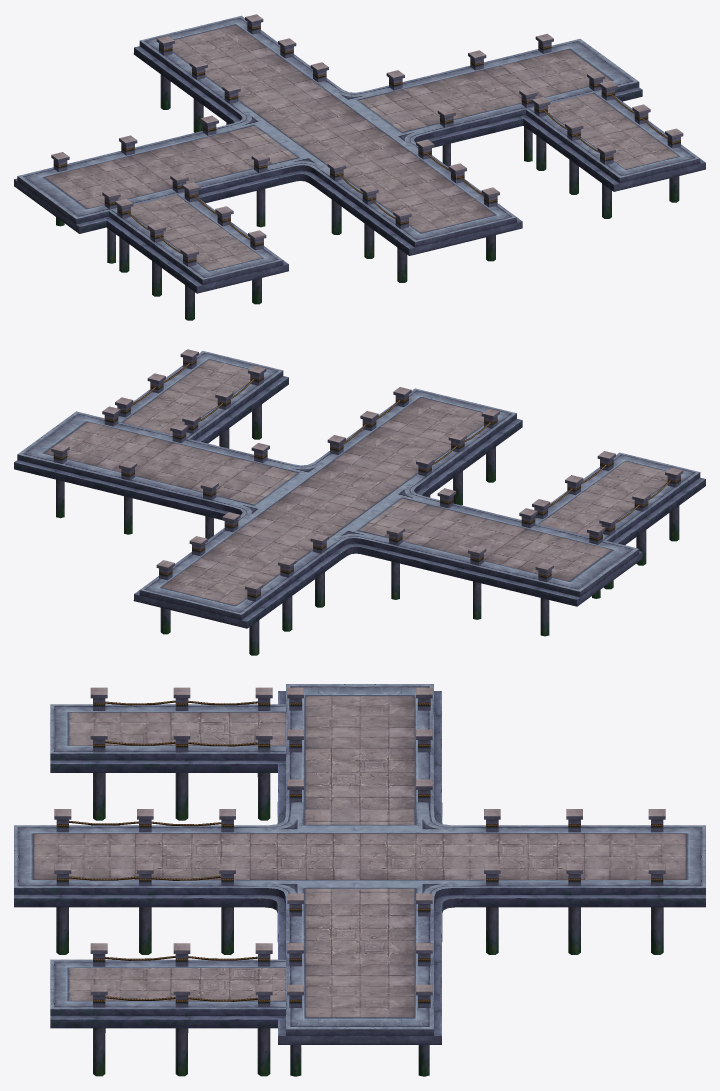
Rendered from NewBattle03_Wharf_01.FBX.
3 views of the same model, one above another, from view 1: azimuth 30°, elevation 25°; view 2: azimuth 150°, elevation 25°; view 3: azimuth 270°, elevation 25° (orthographic). The views are drawn at different scales.
Parts seen in each view (by area): view 1: NewBattle03_Wharf_01; view 2: NewBattle03_Wharf_01; view 3: NewBattle03_Wharf_01.
Boxes of the visible parts, <box> form: NewBattle03_Wharf_01: <box>14,14,705,320</box>; NewBattle03_Wharf_01: <box>14,349,705,655</box>; NewBattle03_Wharf_01: <box>14,684,705,1076</box>.
Bounding box in the file's own units: 59.11 × 6.86 × 50.07.
